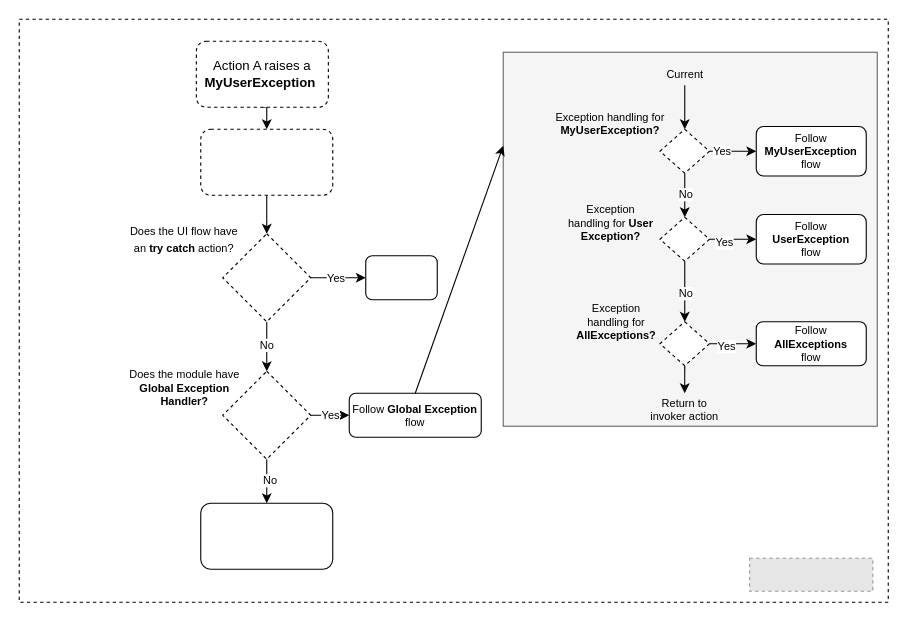
This 908x622 diagram has some shape labels left out. Grey dashed boxes stand in for pictures. Here are the shapes that lost their labels. From the top down, the box of each, then its label:
(200, 128, 333, 195): Find a matching Exception Handler in Action A scope
(365, 255, 437, 300): Follow catch flow
(200, 502, 333, 569): Application aborts & shows generic error
